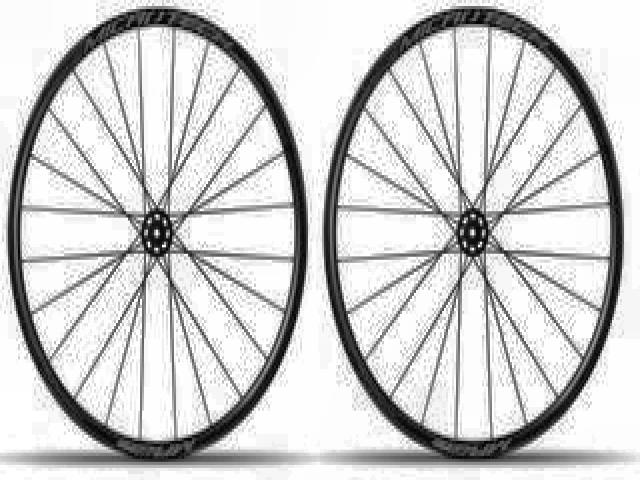wheel: (320, 1, 630, 464), (6, 1, 310, 464)
